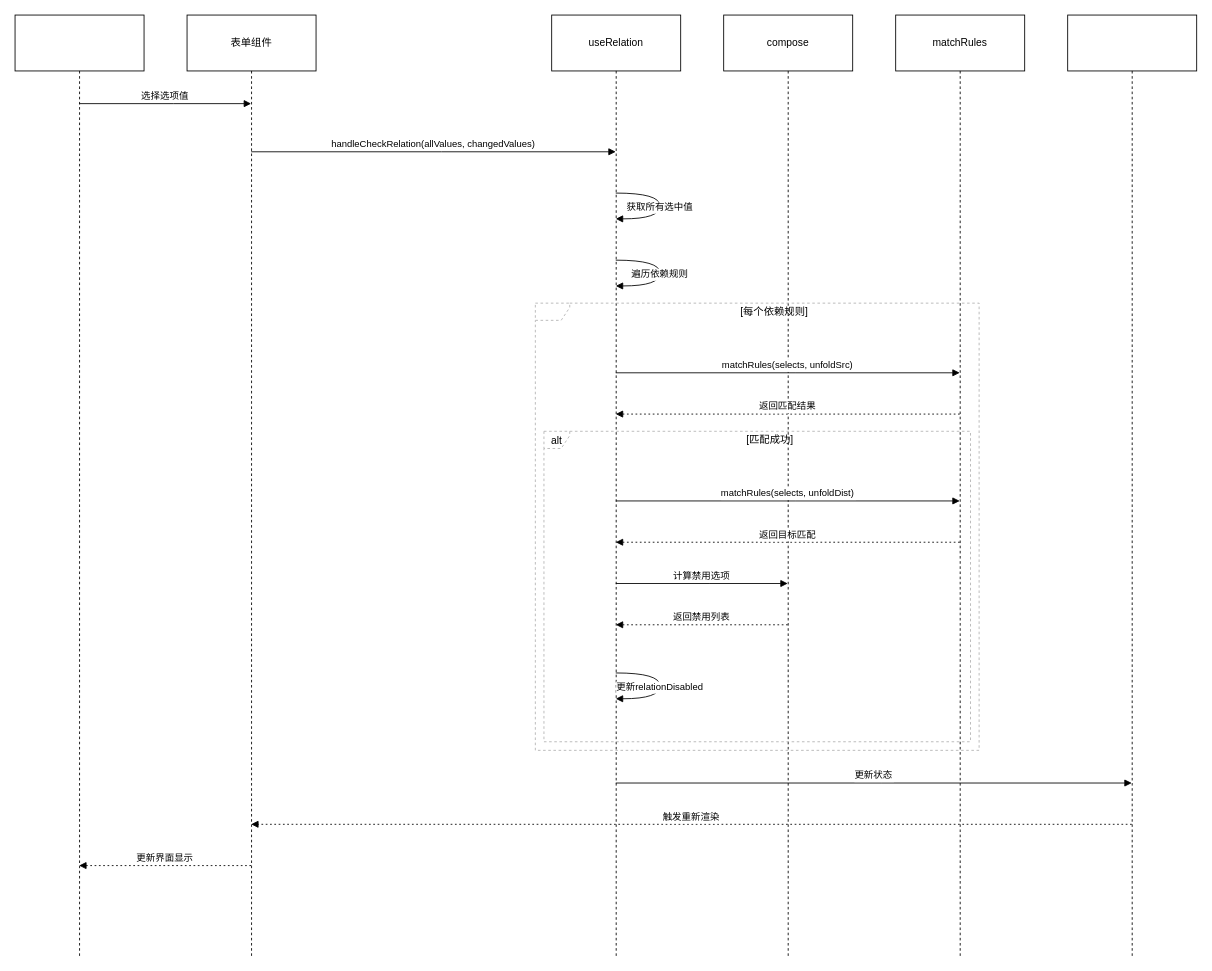
Some shapes in this 1212 by 971 pixel diagram are drawn without their labels. The shapes that lost their labels are listed below. From the top down, each one's box as (x1, y1, x2, y2) in pixels, then its label:
(14, 14, 144, 956): 用户
(1067, 14, 1197, 956): 状态管理
(534, 302, 979, 750): loop
